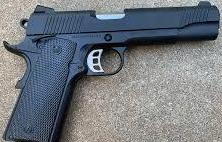gun: (1, 1, 222, 142)
